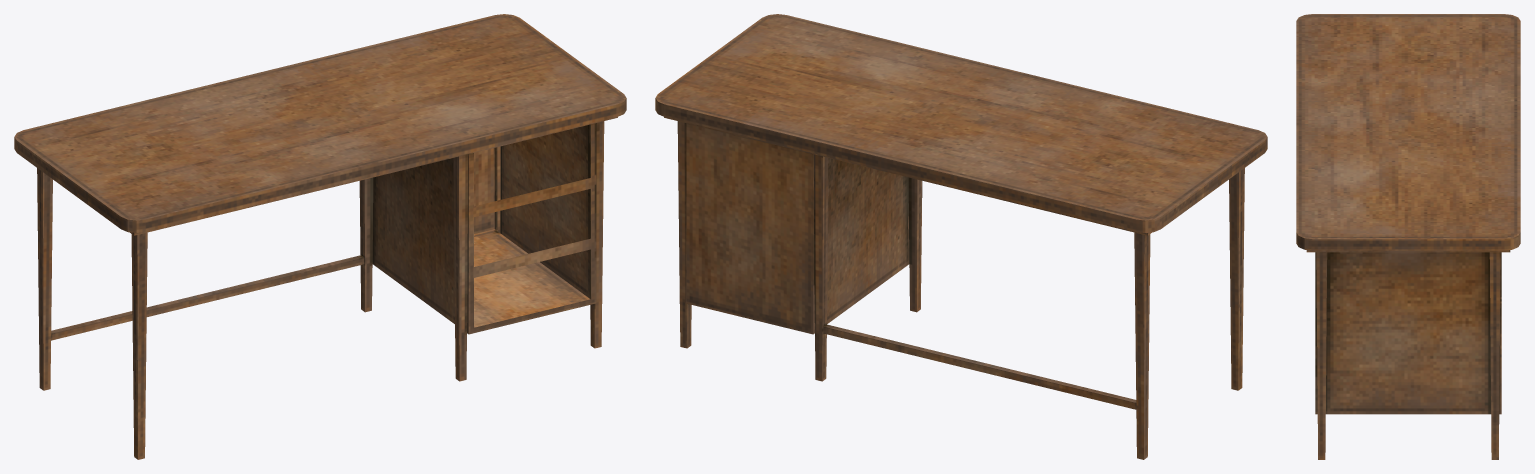
File: Desk.fbx
3 views of the same model, side by side, from view 1: azimuth 30°, elevation 25°; view 2: azimuth 150°, elevation 25°; view 3: azimuth 270°, elevation 25° (orthographic). The views are drawn at different scales.
Parts seen in each view (by area): view 1: Desk; view 2: Desk; view 3: Desk.
Boxes of the visible parts, left/top/right/bottom form: Desk: left=14, top=14, right=626, bottom=459; Desk: left=655, top=14, right=1267, bottom=459; Desk: left=1296, top=14, right=1520, bottom=459.
Size of the model in its own units: 53 by 126 by 59.88.
